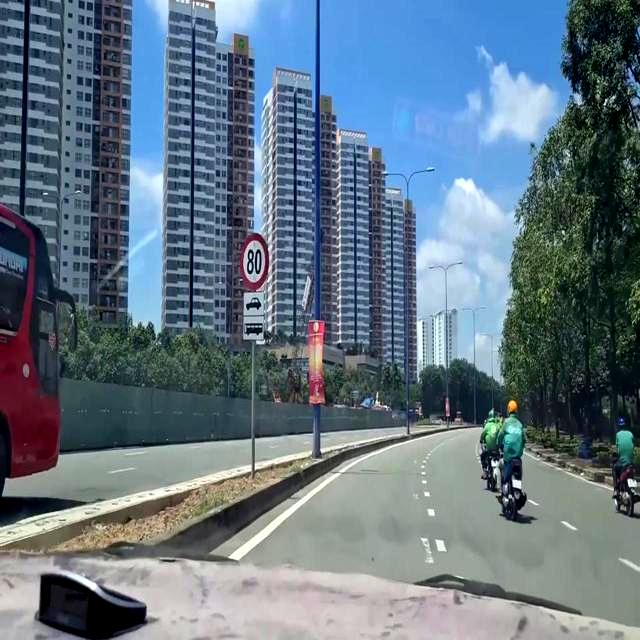Biển phụ: (239, 293, 266, 340)
Giới hạn tốc độ: 80Km/h: (238, 228, 269, 290)
